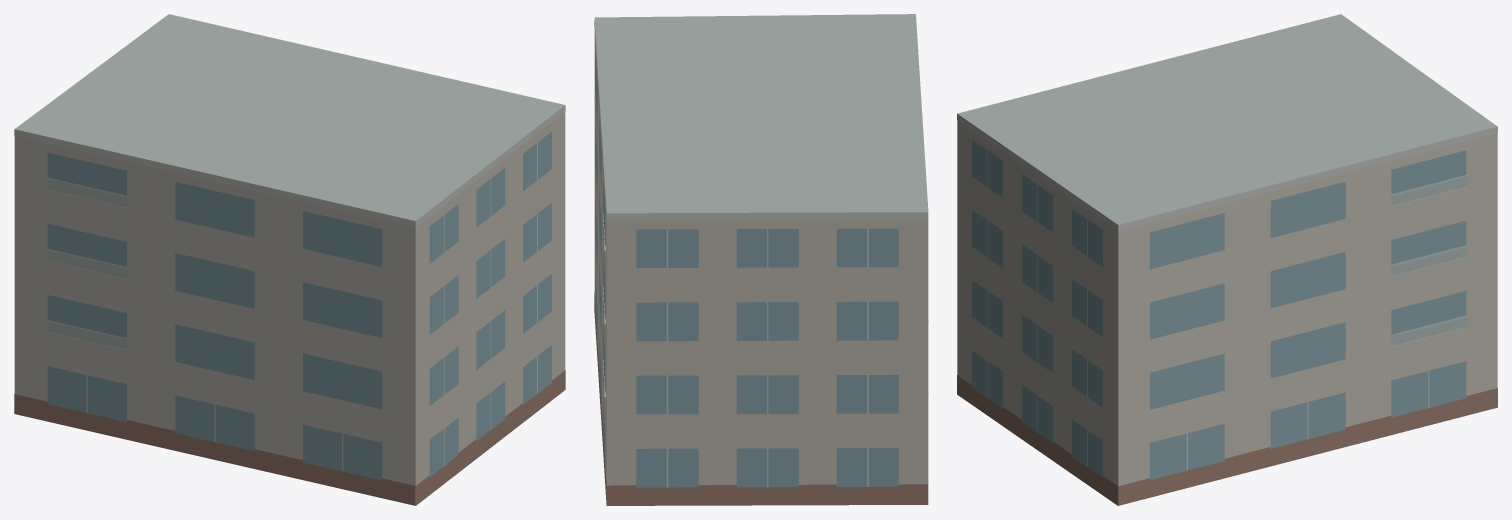
File: survey-upis-32690580.glb
The picture shows the model from 3 angles, left to right: view 1: azimuth 30°, elevation 25°; view 2: azimuth 150°, elevation 25°; view 3: azimuth 270°, elevation 25°; orthographic projection. The views are drawn at different scales.
Visible parts, largest first — view 1: survey-upis-32690580.tmp; view 2: survey-upis-32690580.tmp; view 3: survey-upis-32690580.tmp.
Boxes of the visible parts, <box> form: survey-upis-32690580.tmp: <box>14,14,565,505</box>; survey-upis-32690580.tmp: <box>594,14,928,505</box>; survey-upis-32690580.tmp: <box>957,14,1497,505</box>.
Size of the model in its own units: 17.07 by 10.6 by 18.49.
